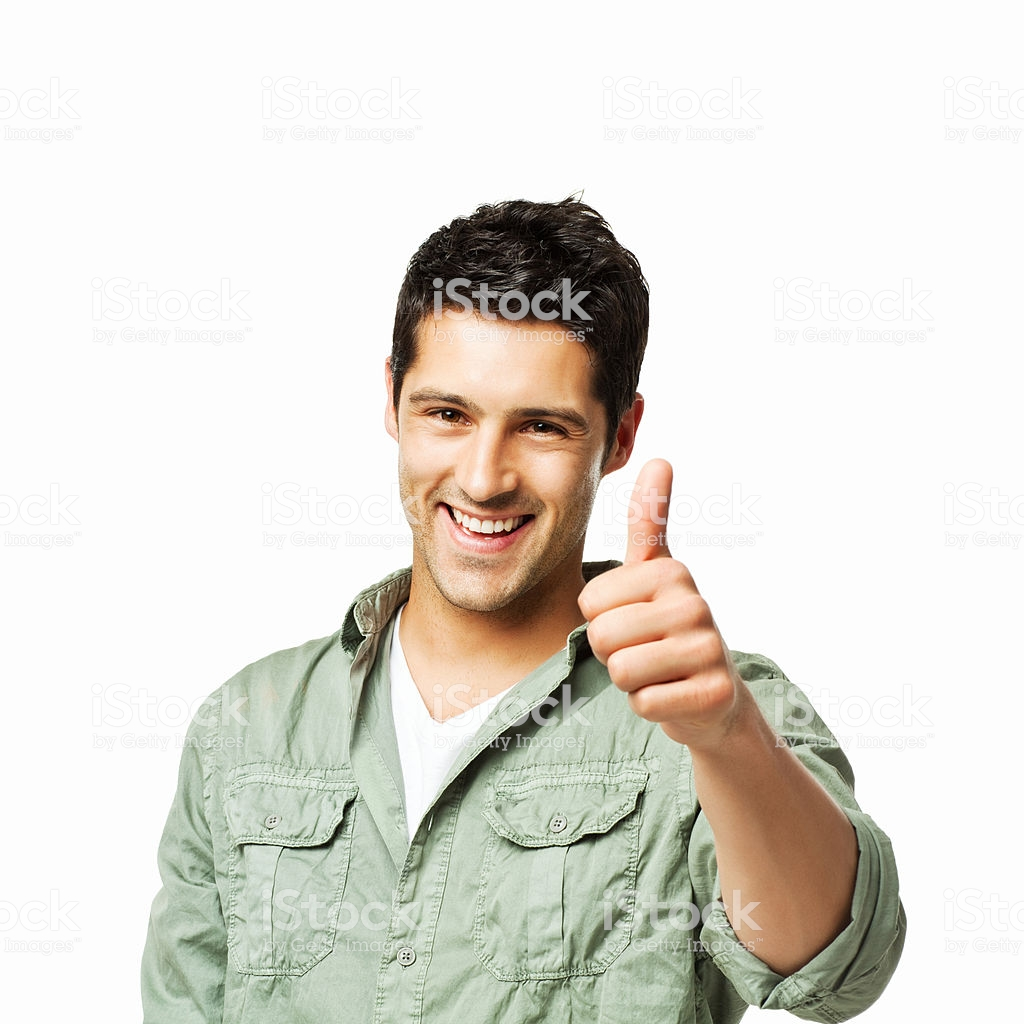thumbsup: (576, 457, 734, 728)
